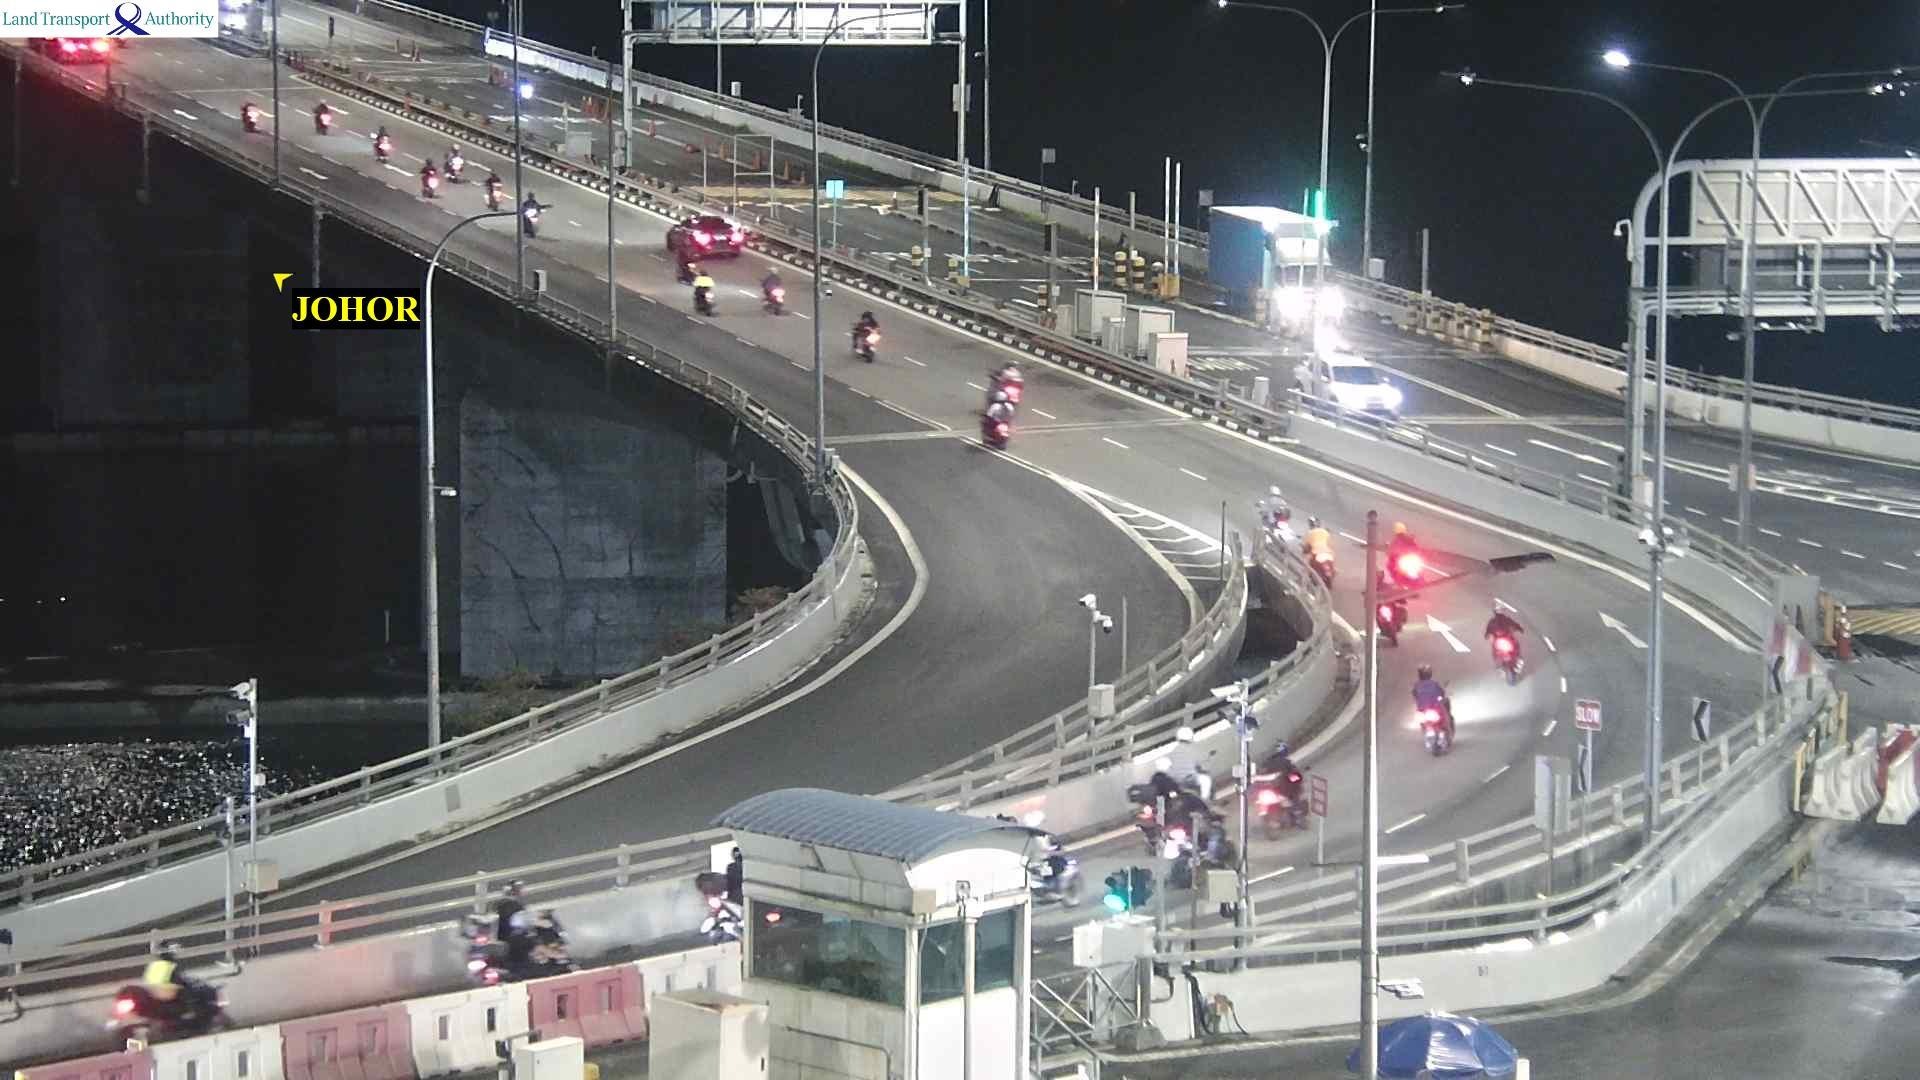vehicle-secondlink-johor: (113, 963, 239, 1046), (469, 913, 580, 985), (1411, 667, 1456, 752), (679, 215, 742, 260), (0, 926, 36, 1005), (1487, 603, 1524, 674), (1135, 766, 1172, 829), (40, 38, 115, 69), (1393, 524, 1424, 588), (1259, 488, 1294, 535), (1374, 593, 1406, 644), (986, 363, 1019, 406), (849, 310, 878, 357), (691, 270, 719, 316), (1309, 520, 1331, 576), (760, 274, 782, 314), (314, 100, 336, 132), (491, 174, 510, 207), (522, 191, 545, 218), (240, 102, 258, 132)
vehicle-secondlink-singapore: (1204, 200, 1327, 334), (1296, 360, 1410, 414)
